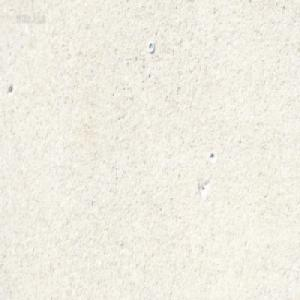Washer: (147, 40, 154, 53)
